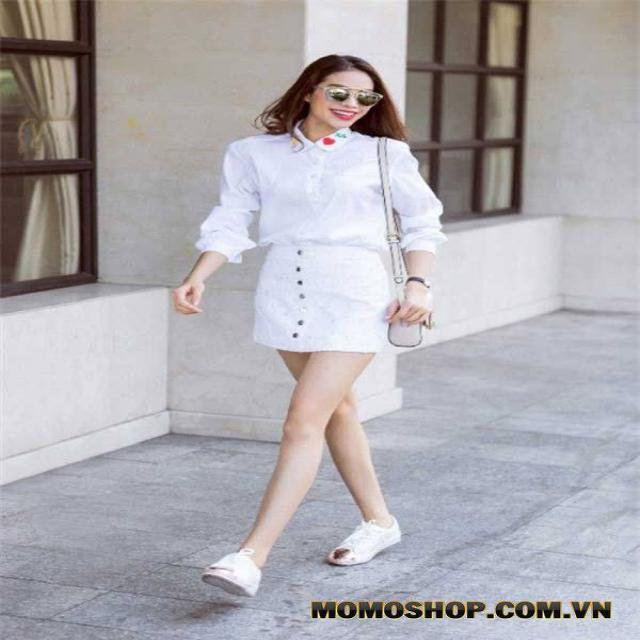clothes: (195, 116, 451, 354)
